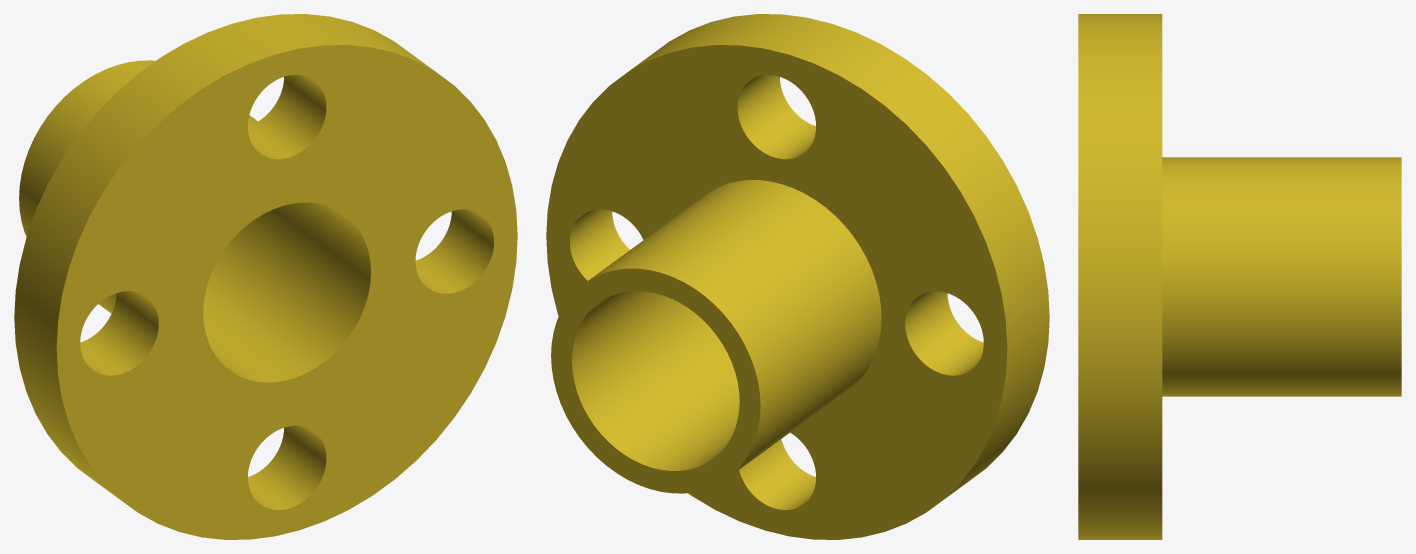
The model's file is PH_A26_H116_brassNut.gltf.
The picture shows the model from 3 angles, left to right: view 1: azimuth 30°, elevation 25°; view 2: azimuth 150°, elevation 25°; view 3: azimuth 270°, elevation 25°; orthographic projection.
Parts seen in each view (by area): view 1: mesh413, mesh412, mesh421, mesh419, mesh416, mesh414, mesh415, mesh417; view 2: mesh418, mesh419, mesh412, mesh421, mesh420, mesh416, mesh417, mesh415, mesh414; view 3: mesh419, mesh412.
Part boxes in pixels (x1,y1,x2,y2): mesh413: (56, 45, 517, 539); mesh412: (14, 14, 435, 506); mesh421: (203, 202, 370, 382); mesh419: (19, 60, 257, 313); mesh416: (80, 291, 158, 375); mesh414: (415, 209, 493, 293); mesh415: (248, 425, 326, 509); mesh417: (248, 75, 326, 159); mesh418: (546, 45, 1007, 539); mesh419: (590, 180, 881, 474); mesh412: (628, 14, 1049, 506); mesh421: (572, 291, 739, 470); mesh420: (551, 268, 760, 493); mesh416: (905, 291, 983, 375); mesh417: (737, 75, 815, 159); mesh415: (739, 439, 815, 509); mesh414: (570, 209, 629, 280); mesh419: (1162, 157, 1401, 396); mesh412: (1078, 14, 1162, 539).
Bounding box in the file's own units: 0.022 × 0.022 × 0.0135.
